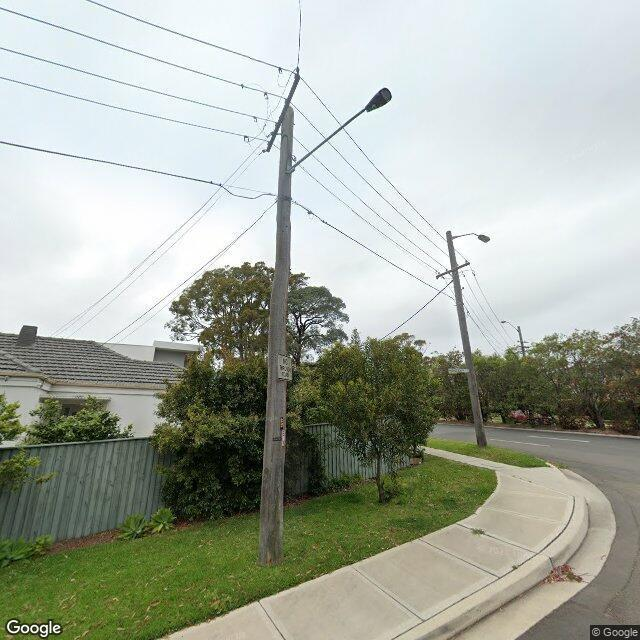crossarm: (265, 73, 302, 154), (436, 262, 470, 279), (518, 346, 530, 348), (518, 341, 530, 343)
streetlight: (291, 85, 392, 172), (454, 231, 491, 243), (501, 320, 519, 331)
timber-pole: (258, 104, 294, 566), (446, 229, 488, 446), (518, 326, 524, 357)
